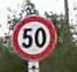limite 50: (12, 14, 57, 60)
